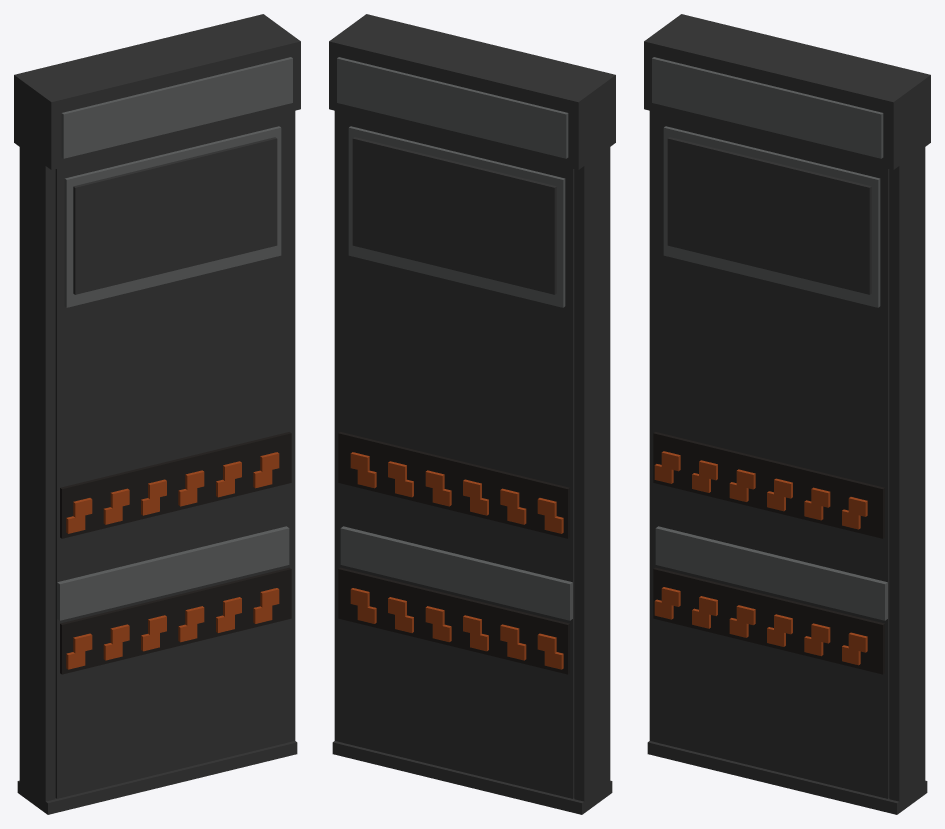
Rendered from CMU3DAlmayerBlastDoor.glb.
The picture shows the model from 3 angles, left to right: view 1: azimuth 30°, elevation 25°; view 2: azimuth 150°, elevation 25°; view 3: azimuth 330°, elevation 25°; orthographic projection.
Visible parts, largest first — view 1: heavy retractable leaf, shutter guide (×2), top armor face, upper roll housing, dark warning band (×2), headbox face, central heavy rib, top armor inset, threshold; view 2: heavy retractable leaf, shutter guide (×2), top armor face back, upper roll housing, dark warning band back (×2), headbox face back, central heavy rib, top armor inset back, threshold; view 3: heavy retractable leaf, shutter guide (×2), top armor face, upper roll housing, dark warning band (×2), headbox face, central heavy rib, top armor inset, threshold.
Part boxes in pixels (x1,y1,x2,y2): heavy retractable leaf: (55,113,286,798); shutter guide (×2): (19,103,295,812); top armor face: (73,137,277,294); upper roll housing: (14,14,300,169); dark warning band (×2): (60,432,291,674); headbox face: (61,57,292,158); central heavy rib: (57,526,289,620); top armor inset: (64,126,281,307); threshold: (17,741,297,814); heavy retractable leaf: (343,113,574,798); shutter guide (×2): (334,109,610,812); top armor face back: (352,137,556,294); upper roll housing: (329,14,615,169); dark warning band back (×2): (338,432,569,674); headbox face back: (337,57,568,158); central heavy rib: (340,526,572,620); top armor inset back: (348,126,565,307); threshold: (332,741,612,814); heavy retractable leaf: (658,113,889,798); shutter guide (×2): (649,106,925,812); top armor face: (667,137,871,294); upper roll housing: (644,14,930,169); dark warning band (×2): (653,432,884,674); headbox face: (652,57,883,158); central heavy rib: (655,526,887,620); top armor inset: (663,126,880,307); threshold: (647,741,927,814).
Bounding box in the file's own units: 1 × 2.74 × 0.302.
